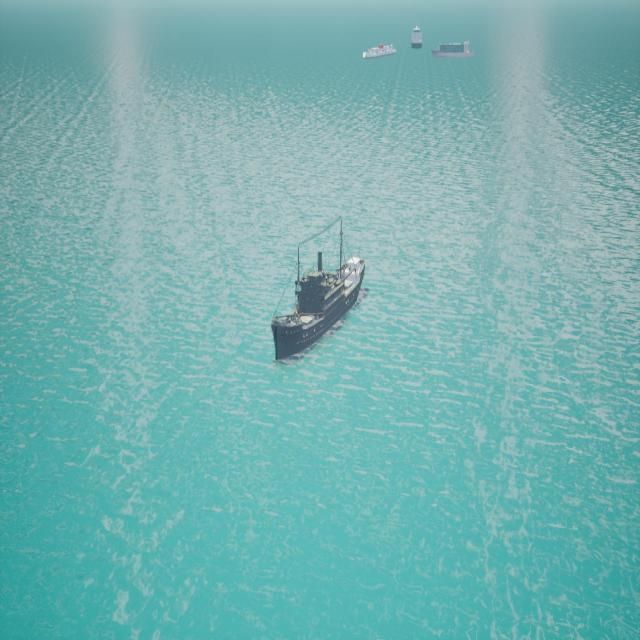fishing ship: (270, 241, 368, 366), (434, 43, 476, 61), (363, 45, 399, 62), (412, 27, 425, 51)
